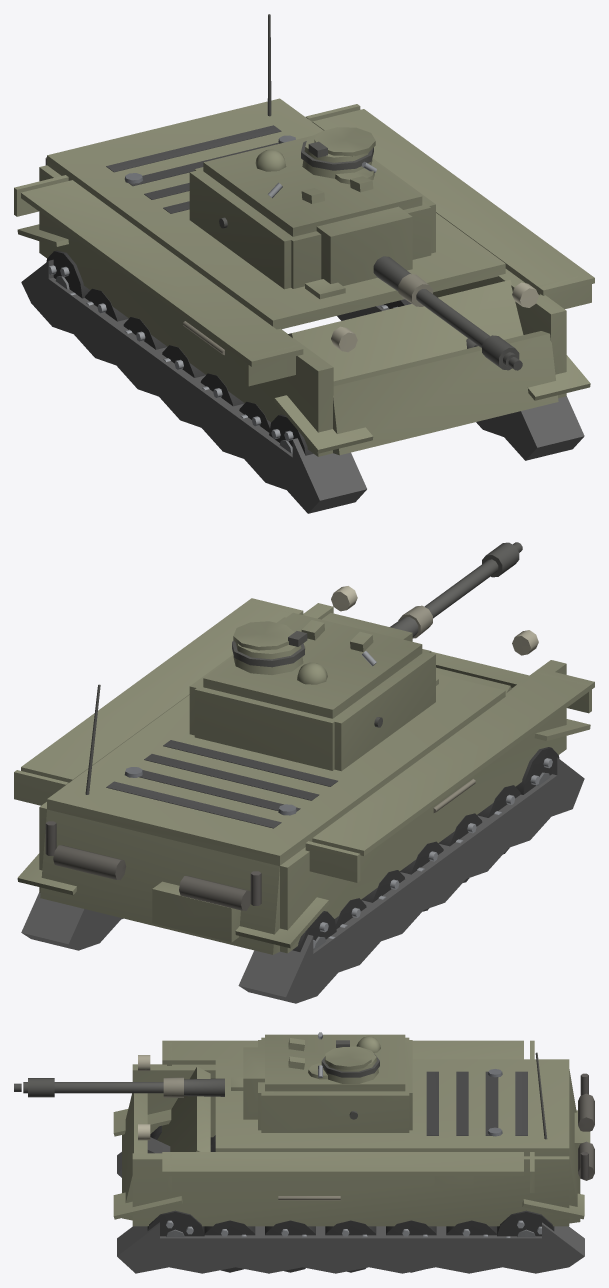
Rendered from m41walker.glb.
The picture shows the model from 3 angles, top to bottom: view 1: azimuth 30°, elevation 25°; view 2: azimuth 150°, elevation 25°; view 3: azimuth 270°, elevation 25°; orthographic projection. The views are drawn at different scales.
Parts seen in each view (by area): view 1: hullSide, hullTop, tracks, lowerPlate, turretRoof, glacis, turretSide, mantlet, barrel, turretFront, wheel6, wheel5; view 2: hullSide, hullTop, tracks, hullRear, turretRoof, turretRear, turretSide, barrel, lowerPlate, wheel5, mantlet, wheel6 (+4 smaller); view 3: hullSide, hullTop, tracks, turretRoof, turretSide, barrel, glacis, hullRear, lowerPlate, mantlet, wheel13, wheel12 (+6 smaller).
Part boxes in pixels (left/top/right/bottom): hullSide: left=14, top=104, right=594, bottom=456; hullTop: left=47, top=98, right=505, bottom=329; tracks: left=17, top=224, right=590, bottom=513; lowerPlate: left=333, top=331, right=558, bottom=455; turretRoof: left=203, top=127, right=422, bottom=236; glacis: left=288, top=279, right=523, bottom=381; turretSide: left=189, top=158, right=435, bottom=289; mantlet: left=316, top=206, right=412, bottom=285; barrel: left=373, top=256, right=522, bottom=370; turretFront: left=284, top=201, right=431, bottom=288; wheel6: left=46, top=250, right=90, bottom=298; wheel5: left=269, top=414, right=313, bottom=455; hullSide: left=14, top=586, right=594, bottom=953; hullTop: left=47, top=673, right=505, bottom=866; tracks: left=17, top=719, right=590, bottom=1003; hullRear: left=40, top=684, right=279, bottom=954; turretRoof: left=203, top=612, right=422, bottom=718; turretRear: left=194, top=683, right=337, bottom=770; turretSide: left=189, top=617, right=435, bottom=771; barrel: left=390, top=542, right=522, bottom=638; lowerPlate: left=431, top=651, right=528, bottom=688; wheel5: left=515, top=747, right=559, bottom=794; mantlet: left=322, top=613, right=412, bottom=641; wheel6: left=292, top=911, right=336, bottom=951; hullSide: left=132, top=1040, right=569, bottom=1226; hullTop: left=215, top=1059, right=569, bottom=1156; tracks: left=113, top=1109, right=584, bottom=1273; turretRoof: left=265, top=1032, right=405, bottom=1091; turretSide: left=261, top=1037, right=409, bottom=1132; barrel: left=14, top=1077, right=224, bottom=1097; glacis: left=147, top=1066, right=243, bottom=1153; hullRear: left=535, top=1052, right=594, bottom=1223; lowerPlate: left=122, top=1093, right=147, bottom=1220; mantlet: left=243, top=1047, right=264, bottom=1119; wheel13: left=497, top=1210, right=554, bottom=1238; wheel12: left=147, top=1210, right=204, bottom=1237.
Bounding box in the file's own units: 3.98 × 2.9 × 7.45.
